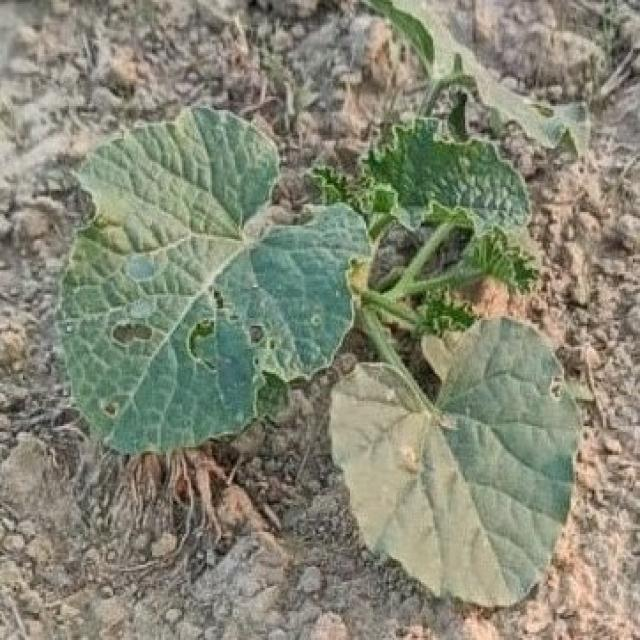plant: (58, 108, 578, 604)
